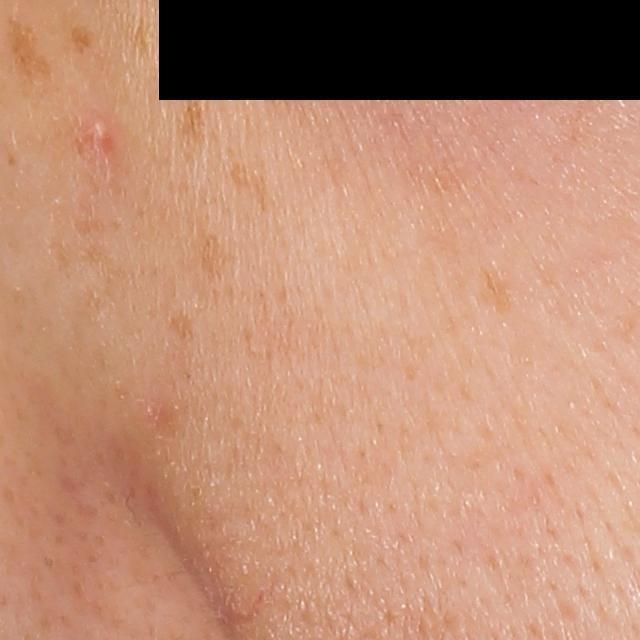melasma: (72, 240, 146, 320), (7, 12, 56, 89), (223, 146, 275, 217), (470, 261, 521, 326), (193, 231, 236, 287), (179, 76, 211, 150), (66, 21, 99, 58)
pustule: (77, 111, 118, 161)
